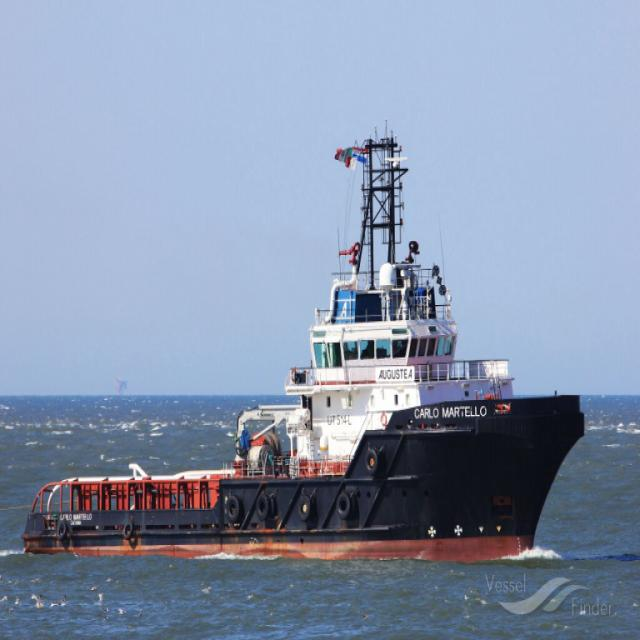OCR: (412, 401, 490, 429), (374, 368, 417, 388), (57, 511, 96, 528)
